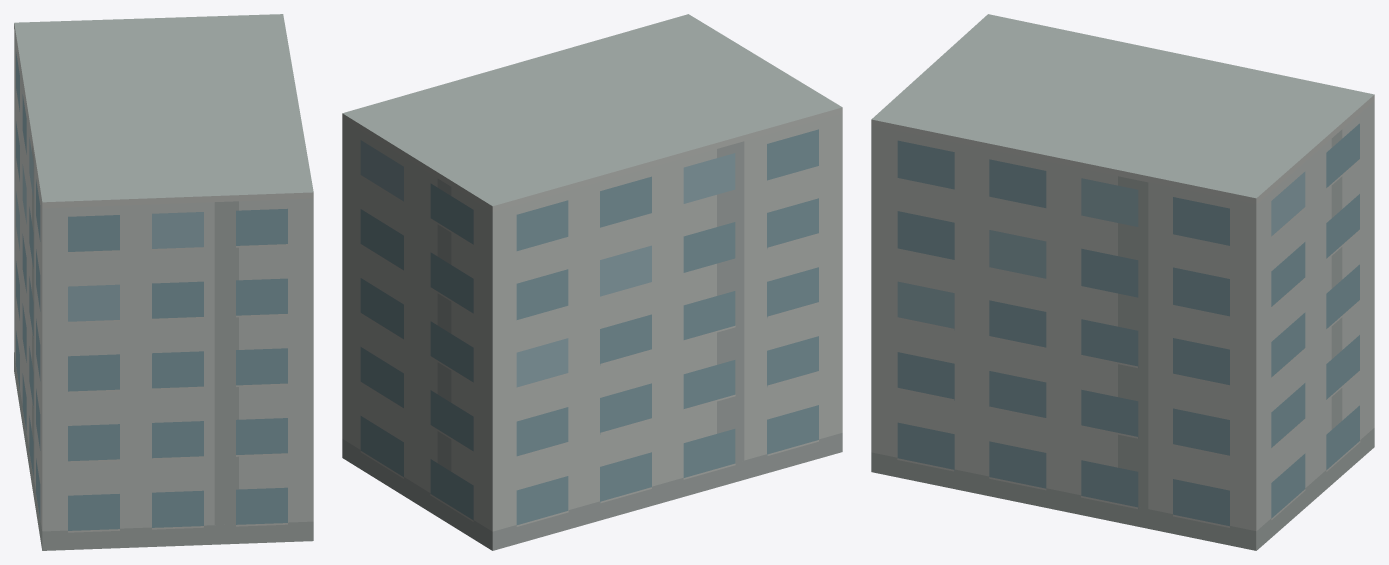
Rendered from survey-upis-32999120.glb.
The picture shows the model from 3 angles, left to right: view 1: azimuth 30°, elevation 25°; view 2: azimuth 150°, elevation 25°; view 3: azimuth 270°, elevation 25°; orthographic projection. The views are drawn at different scales.
Visible parts, largest first — view 1: survey-upis-32999120.tmp; view 2: survey-upis-32999120.tmp; view 3: survey-upis-32999120.tmp.
Part boxes in pixels (box(x1,y1,x2,y2)): survey-upis-32999120.tmp: box(14, 14, 313, 550); survey-upis-32999120.tmp: box(342, 14, 842, 550); survey-upis-32999120.tmp: box(871, 14, 1374, 550).
Bounding box in the file's own units: 15.48 × 13.8 × 17.87.
